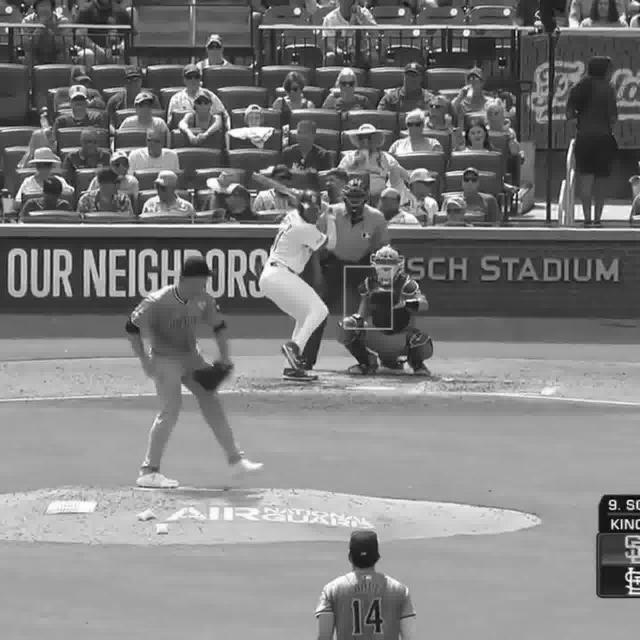base: (340, 384, 400, 396)
baseball_glove: (188, 358, 230, 390), (365, 288, 407, 312)
bat: (248, 171, 330, 205)
shoe: (129, 472, 186, 491), (283, 366, 321, 384), (230, 460, 261, 480), (283, 344, 302, 371)
